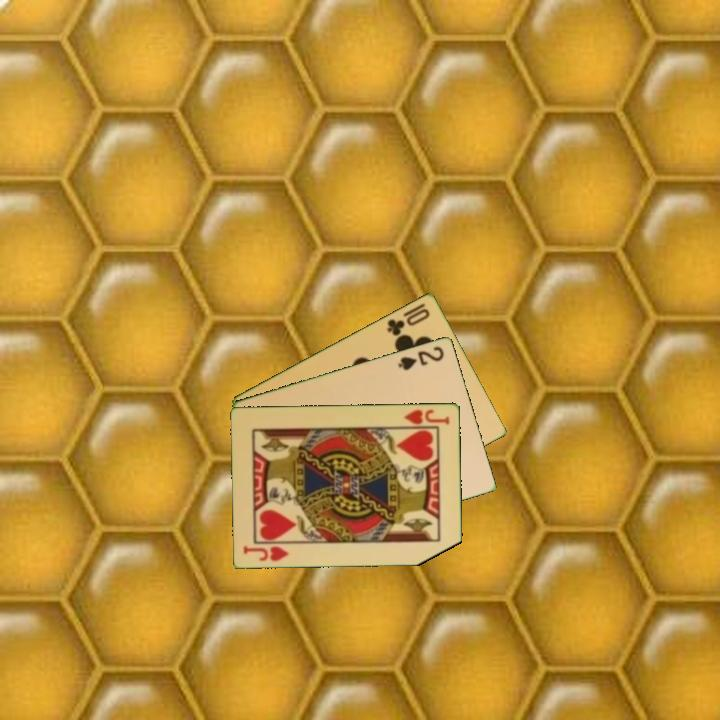10c: (383, 304, 433, 339)
2s: (394, 342, 447, 373)
Jh: (240, 542, 292, 564), (401, 406, 452, 427)
